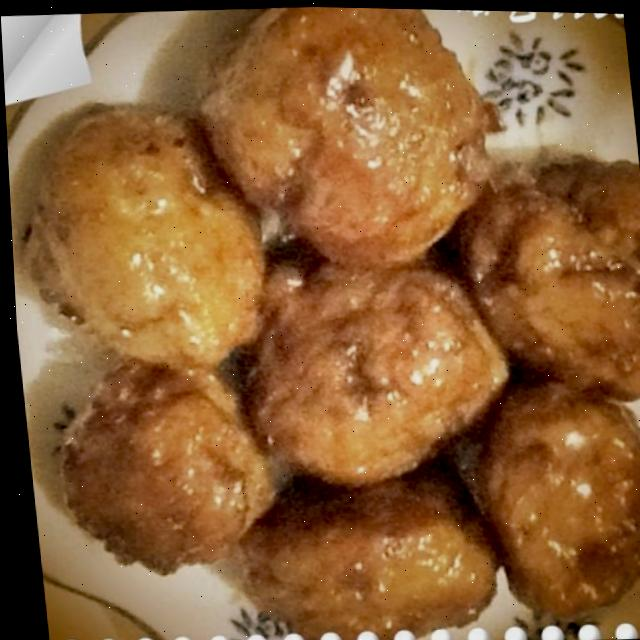猪肉菜式: (11, 0, 640, 640)
